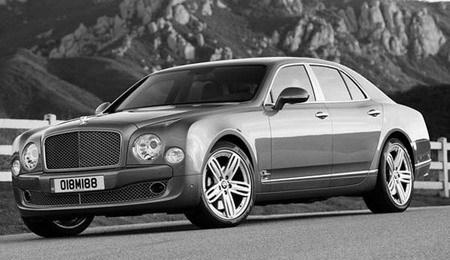car: (13, 59, 433, 240)
